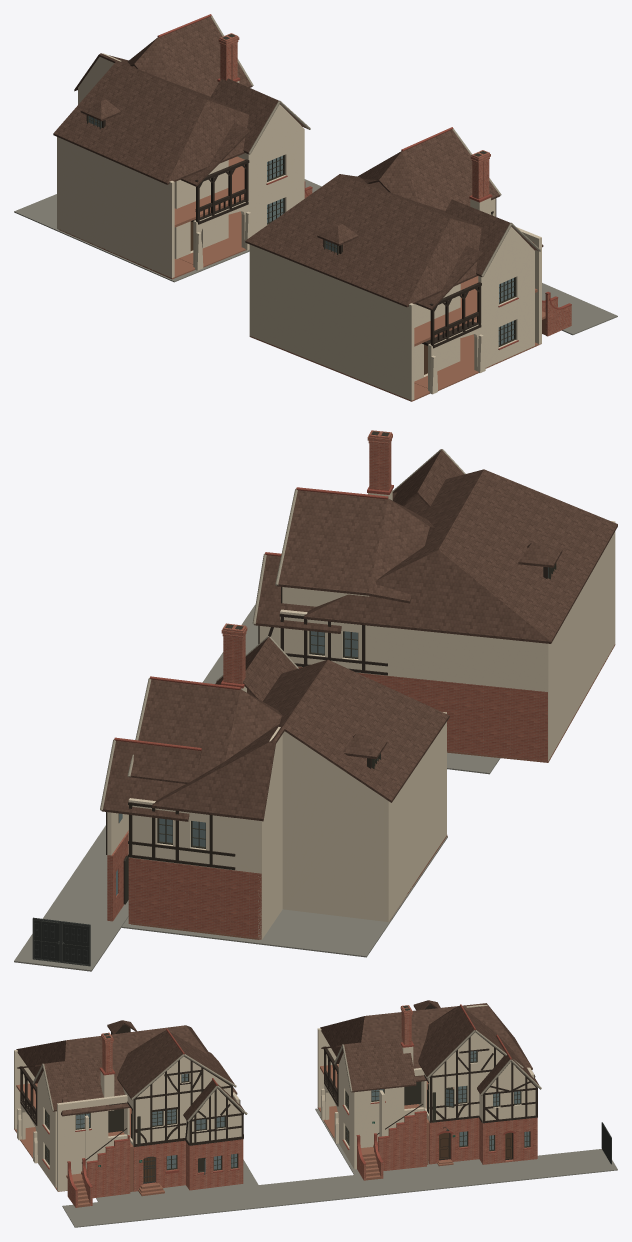
File: xuhui-wuyuan-289-garden-houses-lod.glb
3 renders of one model, top to bottom at view 1: azimuth 30°, elevation 25°; view 2: azimuth 150°, elevation 25°; view 3: azimuth 270°, elevation 25°, orthographic. The views are drawn at different scales.
Visible parts, largest first — view 1: 五原路289弄花园住宅; view 2: 五原路289弄花园住宅; view 3: 五原路289弄花园住宅.
Part boxes in pixels (left/top/right/bottom): 五原路289弄花园住宅: left=14, top=14, right=617, bottom=401; 五原路289弄花园住宅: left=14, top=430, right=617, bottom=971; 五原路289弄花园住宅: left=14, top=1000, right=617, bottom=1227.
Bounding box in the file's own units: 23.9 × 11.75 × 44.2.
18 materials, 3 textured.
